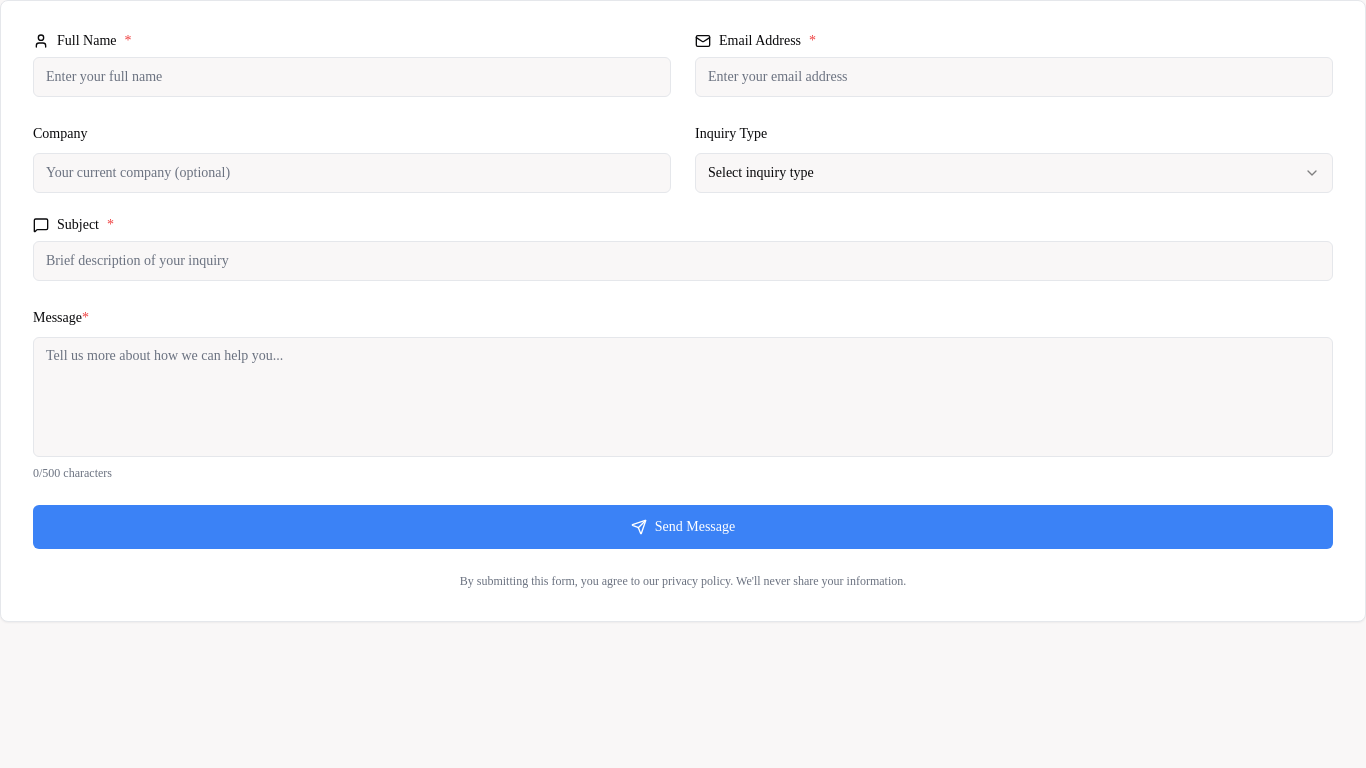
Test: ContactForm › should show validation errors for required fields
Click the button "Send Message".
click(683, 527)  # box [33,505,1333,549]
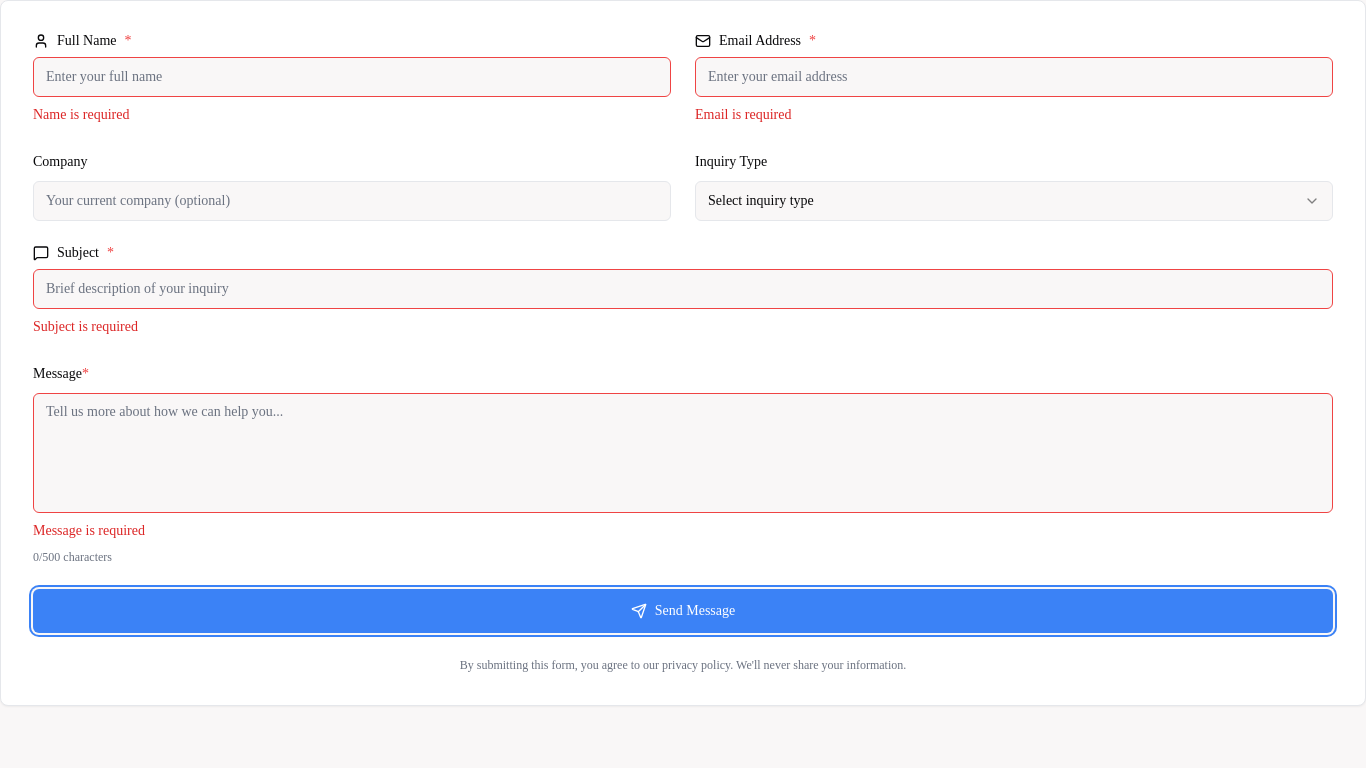
Expected: the text "Name is required" is shown, [33,107,129,122]
Expected: the text "Email is required" is shown, [695,107,791,122]
Expected: the text "Subject is required" is shown, [33,319,138,334]
